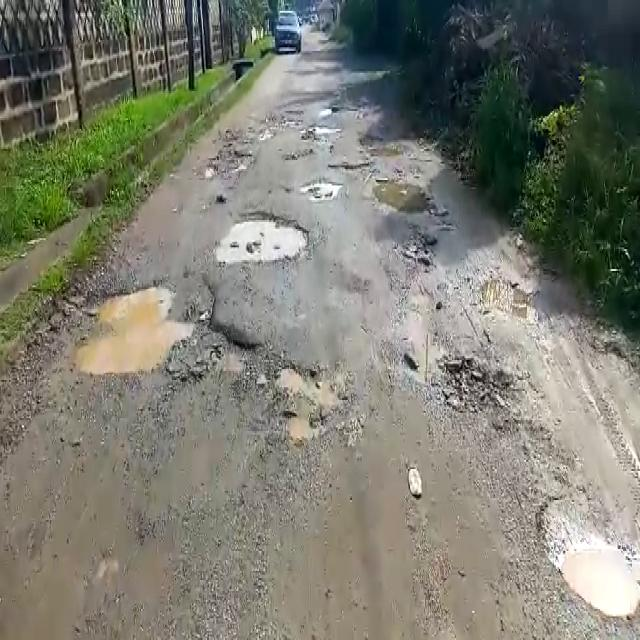Pothole: (70, 272, 252, 378), (538, 497, 640, 620), (276, 358, 352, 440), (440, 350, 522, 420), (218, 212, 315, 263), (478, 264, 541, 323), (374, 175, 437, 216), (393, 236, 438, 273), (299, 180, 344, 201), (324, 159, 378, 172)
